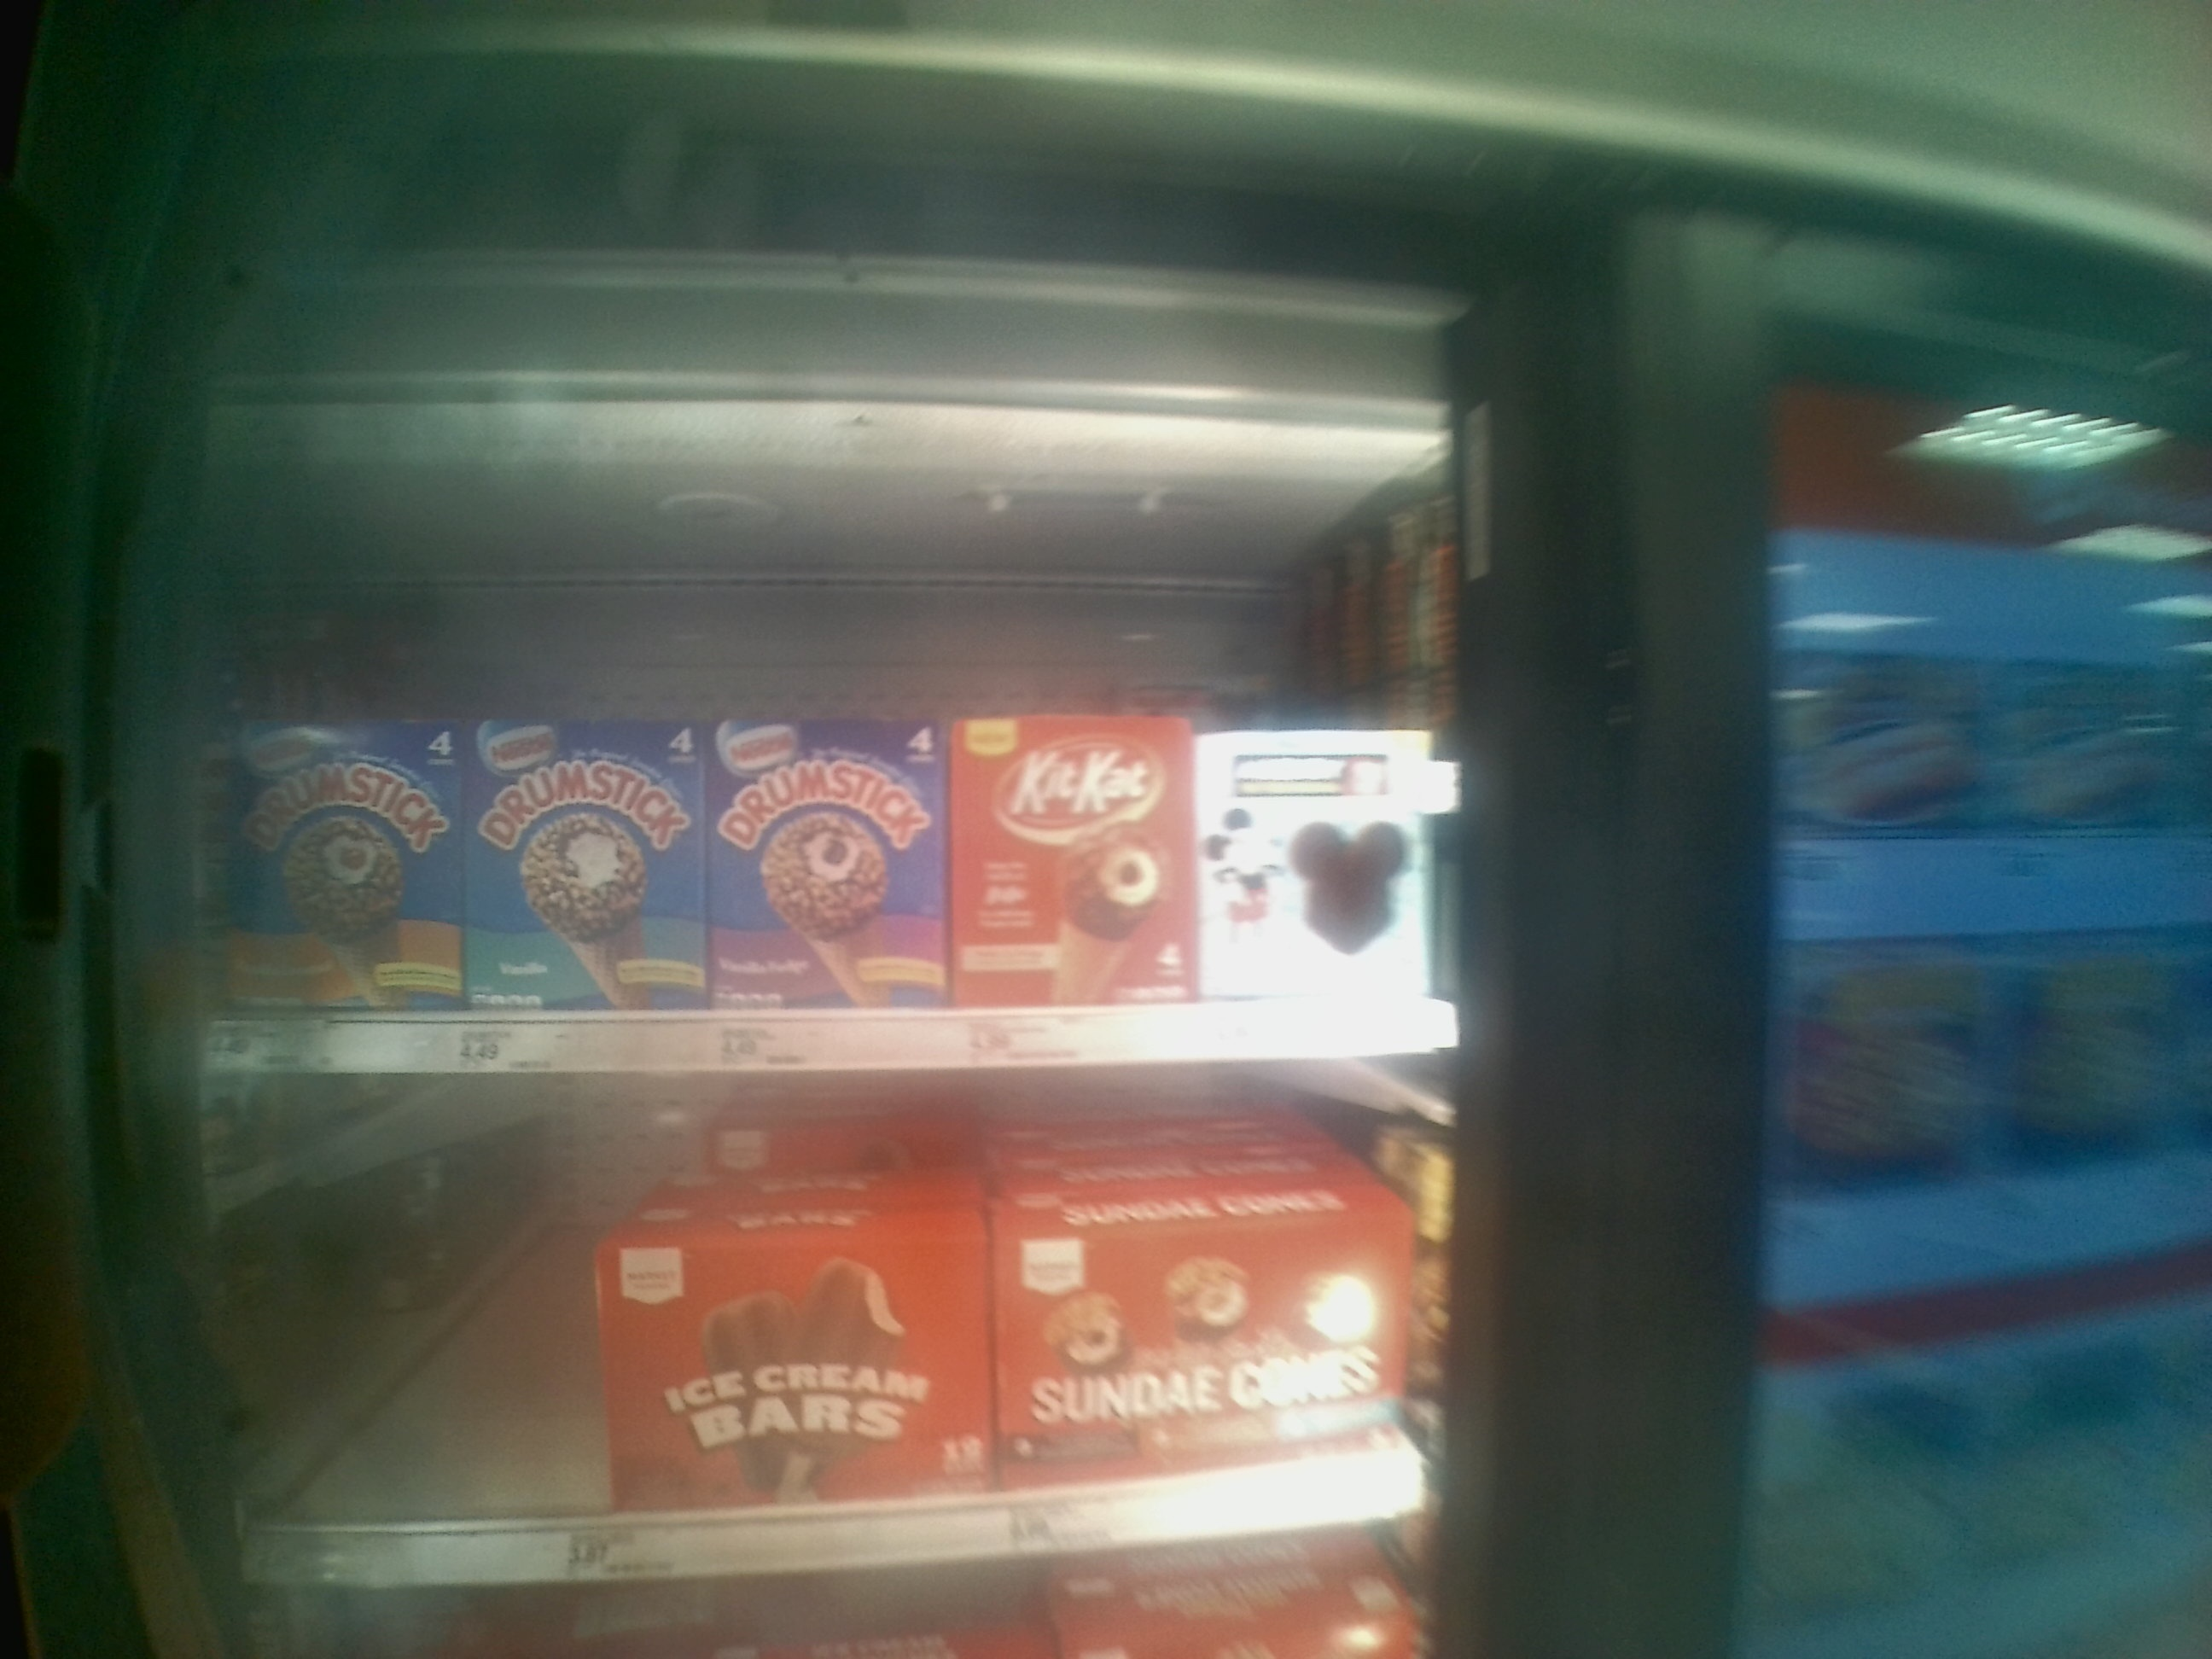frozen-food-shelf: (84, 385, 1491, 1075), (84, 1075, 1460, 1588)
